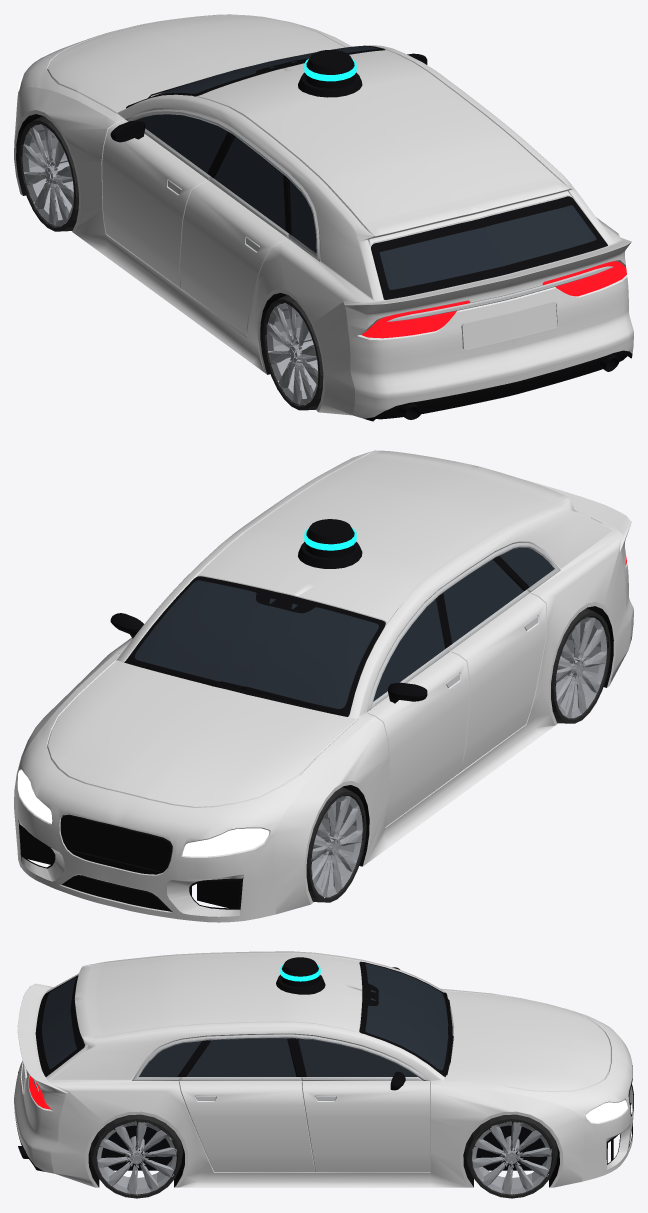
The model's file is robotaxi.glb.
3 renders of one model, top to bottom at view 1: azimuth 30°, elevation 25°; view 2: azimuth 150°, elevation 25°; view 3: azimuth 270°, elevation 25°, orthographic. The views are drawn at different scales.
Visible parts, largest first — view 1: Body, Bumper_R, Glass, Hood, Wheel_RL, Wheel_FL, Lamp_R, Lidar, Mirror_L; view 2: Body, Hood, Glass, Bumper_F, Wheel_FL, Wheel_RL, Lidar, Lamp_F, Bumper_R, Mirror_L; view 3: Body, Hood, Glass, Wheel_FR, Wheel_RR, Bumper_R, Bumper_F, Lidar, Lamp_F.
Part boxes in pixels (left/top/right/bottom): Body: left=14, top=45, right=631, bottom=412; Bumper_R: left=319, top=278, right=633, bottom=421; Glass: left=135, top=46, right=596, bottom=289; Hood: left=19, top=14, right=351, bottom=116; Wheel_RL: left=263, top=295, right=323, bottom=410; Wheel_FL: left=18, top=116, right=78, bottom=231; Lamp_R: left=362, top=261, right=626, bottom=338; Lidar: left=298, top=50, right=362, bottom=97; Mirror_L: left=110, top=120, right=145, bottom=142; Body: left=17, top=450, right=631, bottom=914; Hood: left=19, top=661, right=364, bottom=837; Glass: left=134, top=548, right=554, bottom=708; Bumper_F: left=14, top=757, right=311, bottom=922; Wheel_FL: left=306, top=787, right=366, bottom=902; Wheel_RL: left=551, top=608, right=610, bottom=723; Lidar: left=298, top=519, right=362, bottom=568; Lamp_F: left=17, top=770, right=269, bottom=856; Bumper_R: left=609, top=565, right=633, bottom=685; Mirror_L: left=388, top=682, right=427, bottom=703; Body: left=17, top=951, right=632, bottom=1187; Hood: left=446, top=989, right=631, bottom=1115; Glass: left=42, top=963, right=448, bottom=1076; Wheel_FR: left=466, top=1114, right=557, bottom=1198; Wheel_RR: left=91, top=1114, right=182, bottom=1198; Bumper_R: left=14, top=1060, right=94, bottom=1187; Bumper_F: left=552, top=1065, right=633, bottom=1181; Lidar: left=276, top=957, right=325, bottom=994; Lamp_F: left=585, top=1100, right=627, bottom=1122.
Size of the model in its own units: 2.09 by 1.51 by 4.67.
